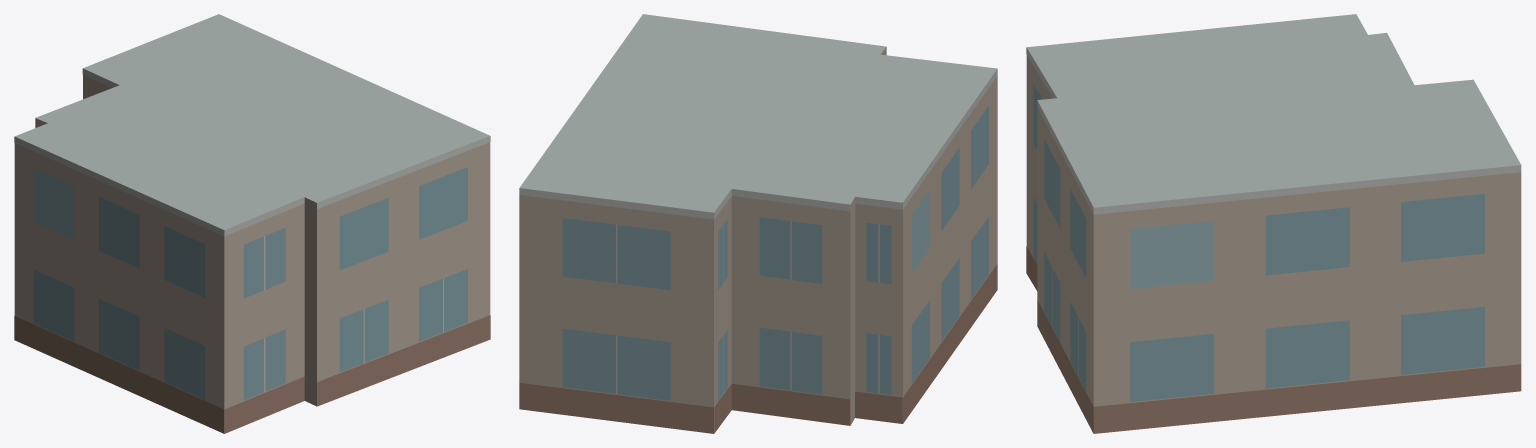
The model's file is survey-upis-32491495.glb.
The picture shows the model from 3 angles, left to right: view 1: azimuth 30°, elevation 25°; view 2: azimuth 150°, elevation 25°; view 3: azimuth 270°, elevation 25°; orthographic projection. The views are drawn at different scales.
Visible parts, largest first — view 1: survey-upis-32491495.tmp; view 2: survey-upis-32491495.tmp; view 3: survey-upis-32491495.tmp.
Part boxes in pixels (box(x1,y1,x2,y2)): survey-upis-32491495.tmp: box(14, 14, 490, 433); survey-upis-32491495.tmp: box(519, 14, 997, 433); survey-upis-32491495.tmp: box(1026, 14, 1521, 433).
Size of the model in its own units: 14.52 by 7.9 by 15.68.
